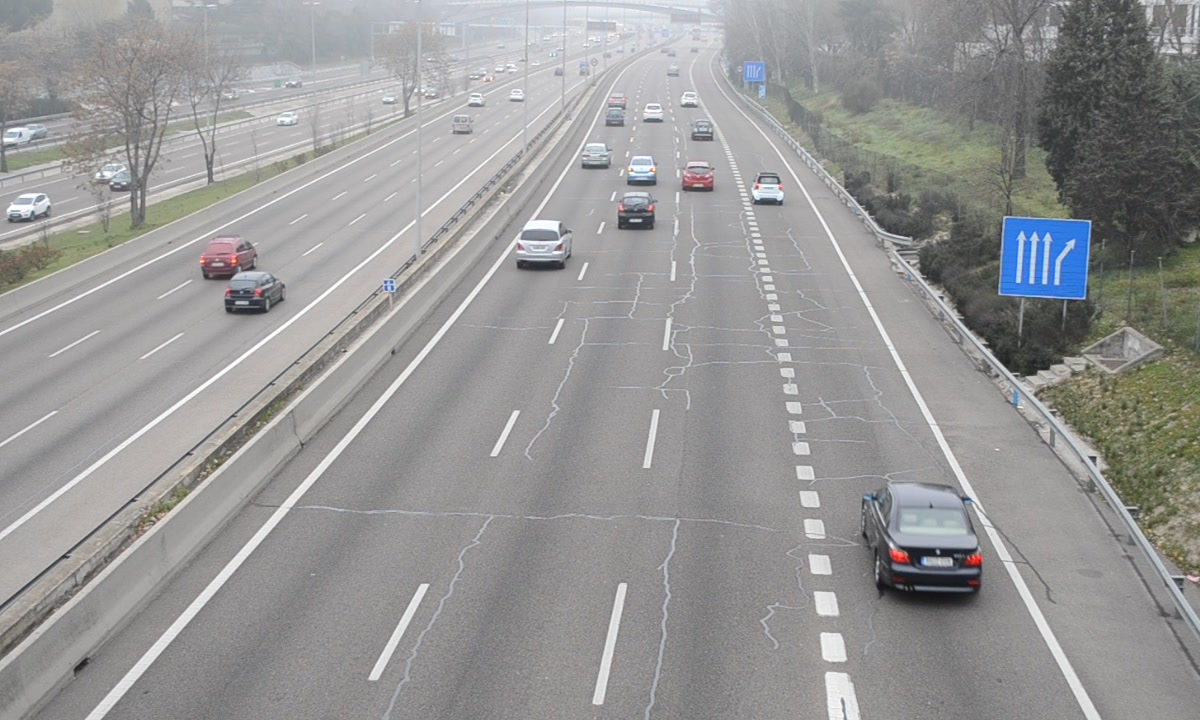car: (863, 484, 981, 598), (512, 218, 572, 267), (616, 191, 657, 231), (751, 171, 785, 207), (681, 160, 716, 194), (627, 154, 658, 186), (581, 143, 612, 170), (689, 118, 713, 143)
